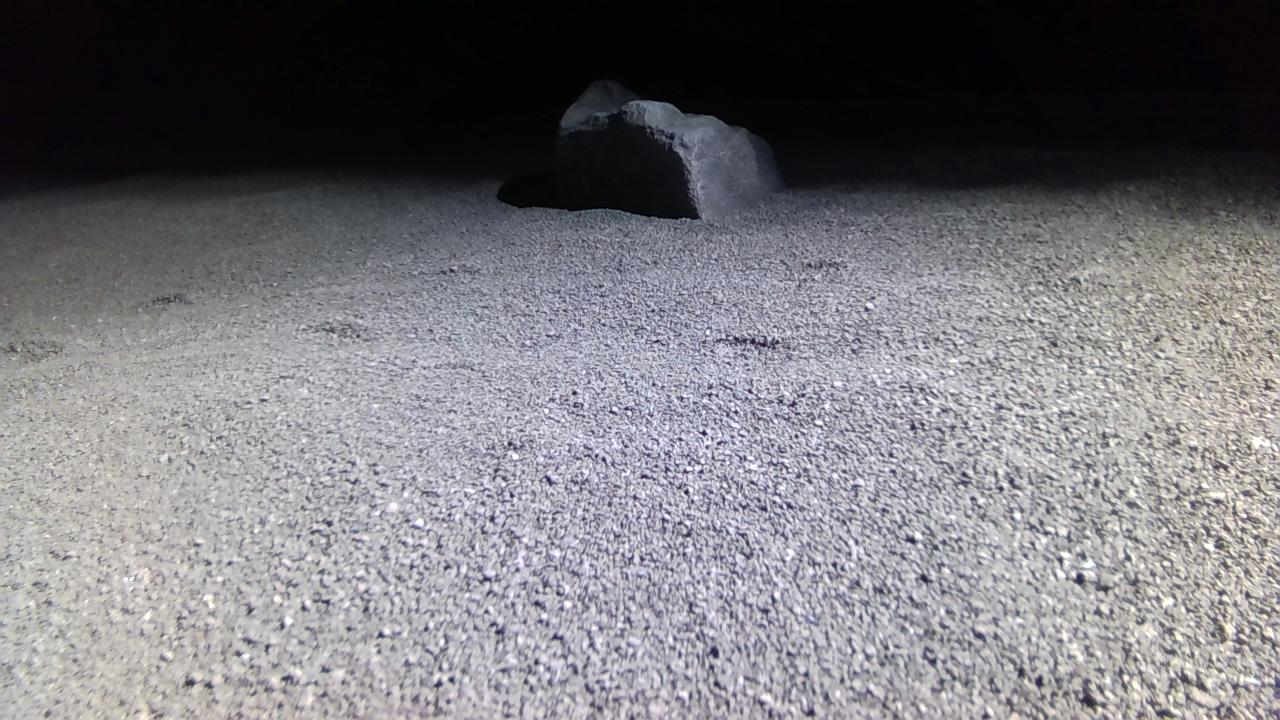rock: (557, 80, 785, 218)
